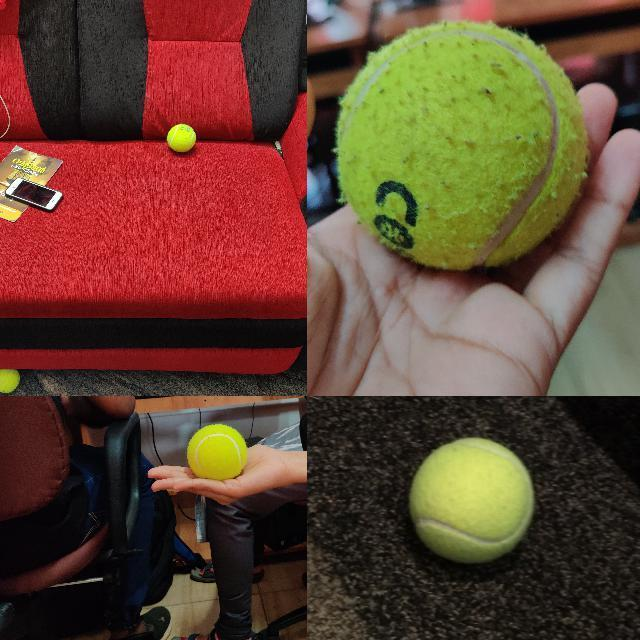tennis-ball: (337, 22, 586, 270), (408, 437, 534, 563), (188, 424, 247, 478), (167, 124, 196, 152), (0, 369, 20, 393)
